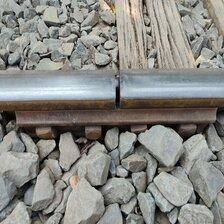railway-gap: (89, 60, 148, 120)
